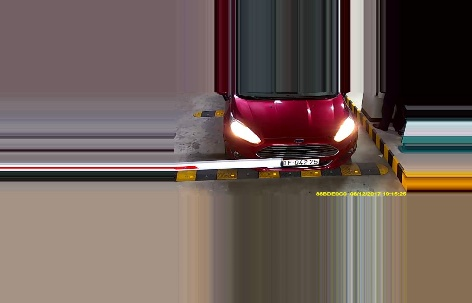plate: (281, 156, 321, 170)
